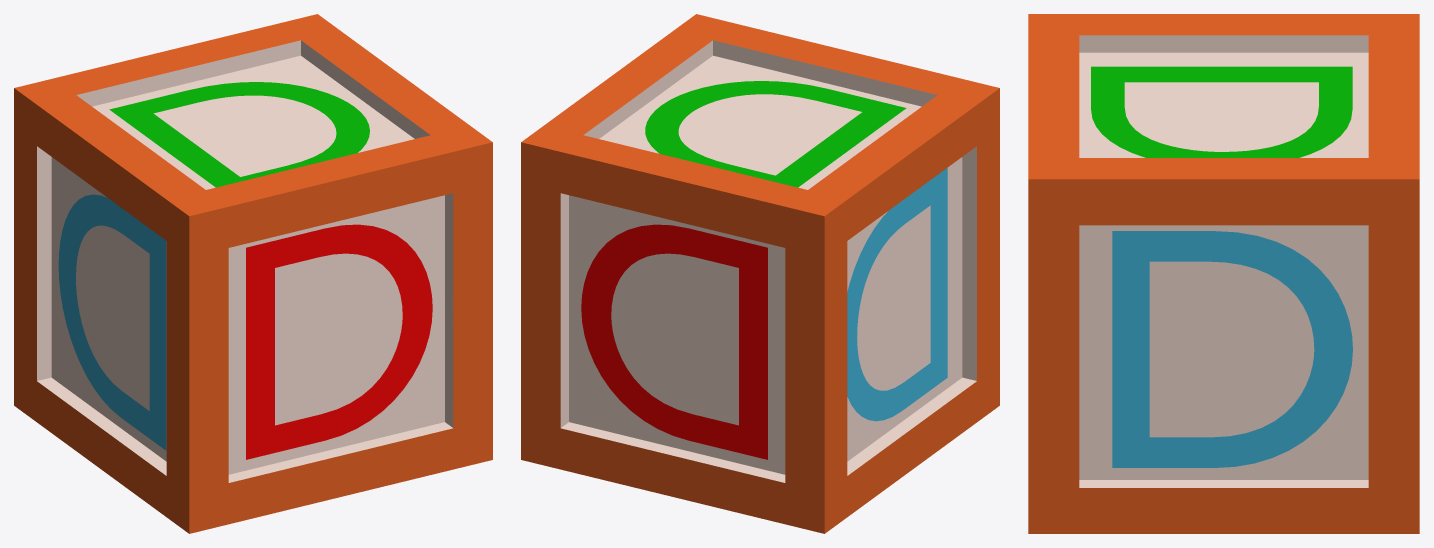
The model's file is Prop_KidsCube_D.fbx.
3 renders of one model, left to right at view 1: azimuth 30°, elevation 25°; view 2: azimuth 150°, elevation 25°; view 3: azimuth 270°, elevation 25°, orthographic. The views are drawn at different scales.
Parts seen in each view (by area): view 1: Prop_KidsCube_D; view 2: Prop_KidsCube_D; view 3: Prop_KidsCube_D.
Boxes of the visible parts, bbox=[...] form: Prop_KidsCube_D: bbox=[14, 14, 492, 533]; Prop_KidsCube_D: bbox=[521, 14, 999, 533]; Prop_KidsCube_D: bbox=[1028, 14, 1419, 533].
Bounding box in the file's own units: 20.93 × 20.93 × 20.93.
Materials: 1 (1 with a texture image).
